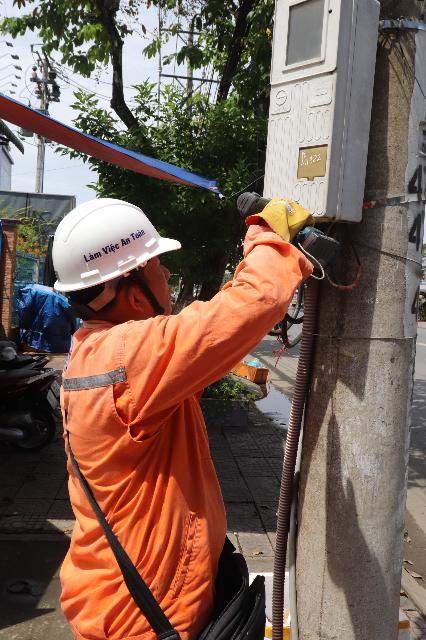gloves: (257, 188, 336, 254)
helmet: (16, 199, 187, 291)
